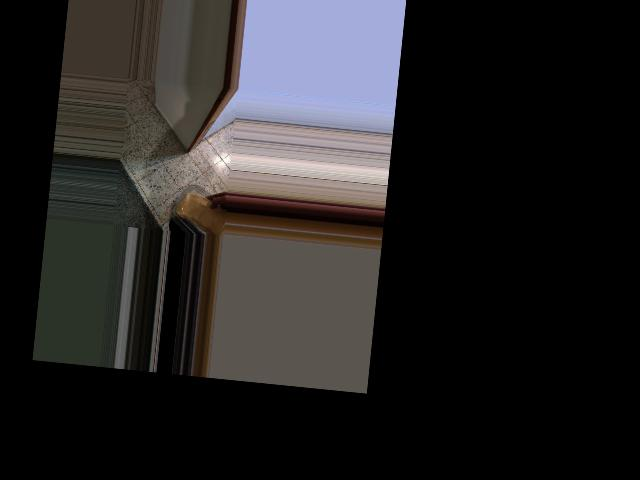cheese: (170, 183, 229, 237)
